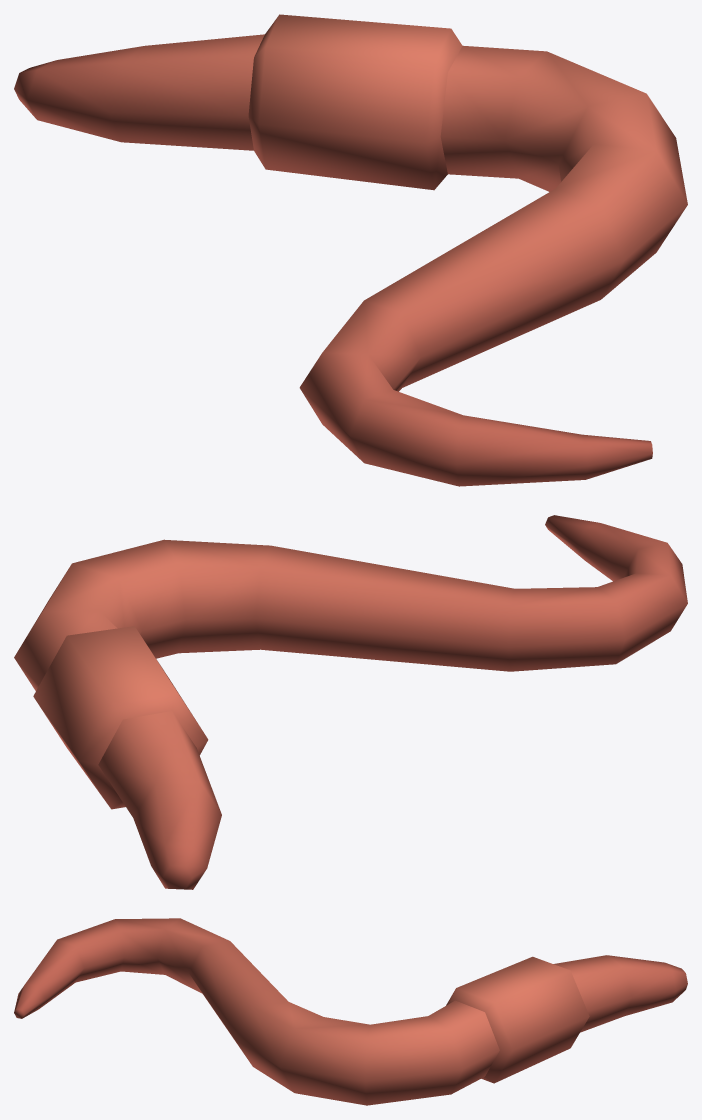
The model's file is Earthworm2.fbx.
The picture shows the model from 3 angles, top to bottom: view 1: azimuth 30°, elevation 25°; view 2: azimuth 150°, elevation 25°; view 3: azimuth 270°, elevation 25°; orthographic projection. The views are drawn at different scales.
Parts seen in each view (by area): view 1: Earthworm2; view 2: Earthworm2; view 3: Earthworm2.
Boxes of the visible parts, bbox=[...] form: Earthworm2: bbox=[14, 14, 687, 486]; Earthworm2: bbox=[14, 515, 687, 889]; Earthworm2: bbox=[14, 918, 687, 1105].
Bounding box in the file's own units: 4.57 × 1.07 × 8.02.
